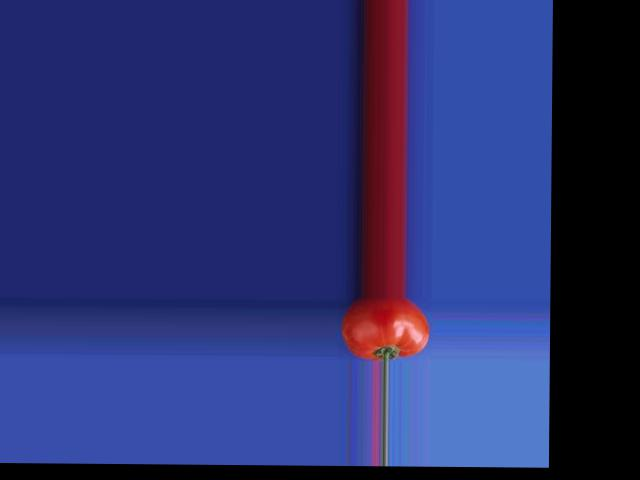tomato: (340, 295, 428, 361)
